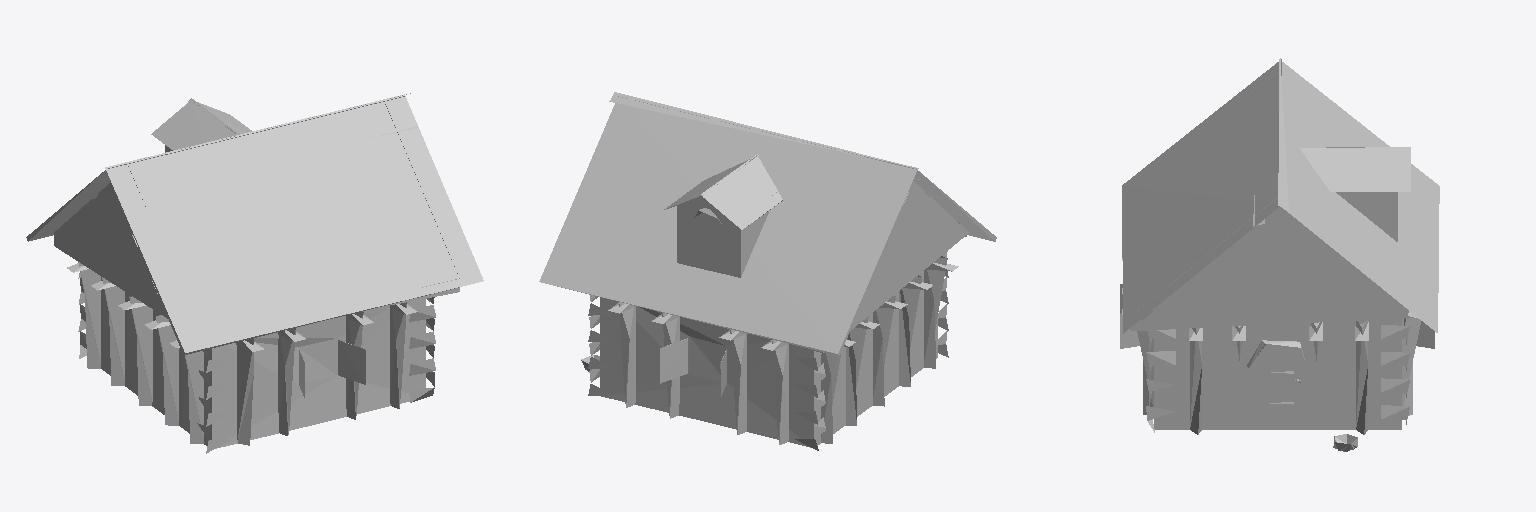
File: casa_0.obj
The picture shows the model from 3 angles: view 1: azimuth 30°, elevation 25°; view 2: azimuth 150°, elevation 25°; view 3: azimuth 270°, elevation 25°; orthographic projection.
Parts seen in each view (by area): view 1: Base_Casa; view 2: Base_Casa; view 3: Base_Casa.
Part boxes in pixels (x1,y1,x2,y2): Base_Casa: (26,93,483,453); Base_Casa: (539,92,996,450); Base_Casa: (1120,58,1439,451).
Bounding box in the file's own units: 72 × 56.14 × 64.59.